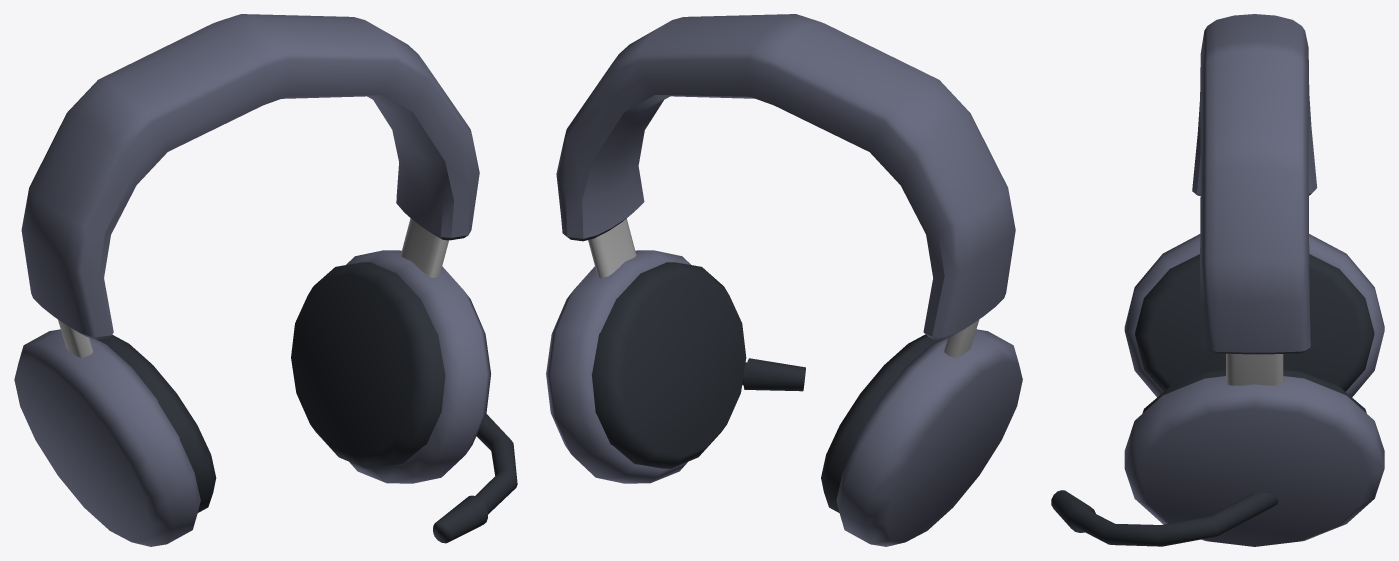
File: Koptelefoon.fbx
3 views of the same model, side by side, from view 1: azimuth 30°, elevation 25°; view 2: azimuth 150°, elevation 25°; view 3: azimuth 270°, elevation 25° (orthographic). The views are drawn at different scales.
Parts seen in each view (by area): view 1: Koptelefoon; view 2: Koptelefoon; view 3: Koptelefoon.
Part boxes in pixels (<box>): Koptelefoon: <box>14,14,517,546</box>; Koptelefoon: <box>546,14,1022,546</box>; Koptelefoon: <box>1051,14,1384,546</box>.
Bounding box in the file's own units: 25.78 × 27.97 × 19.11.
1 material, 1 textured.
